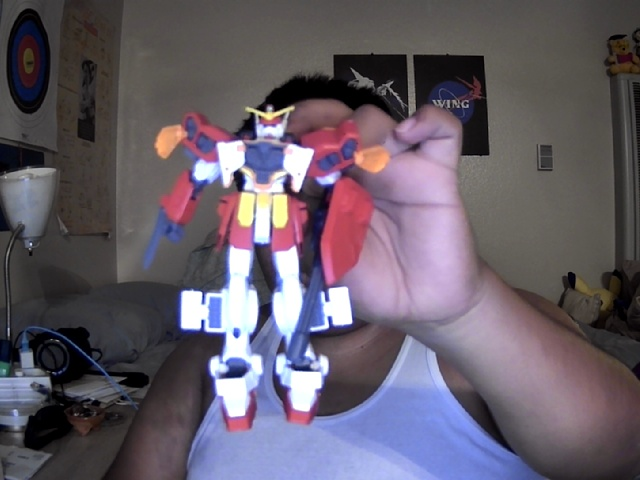Deatharms: (142, 105, 390, 434)
